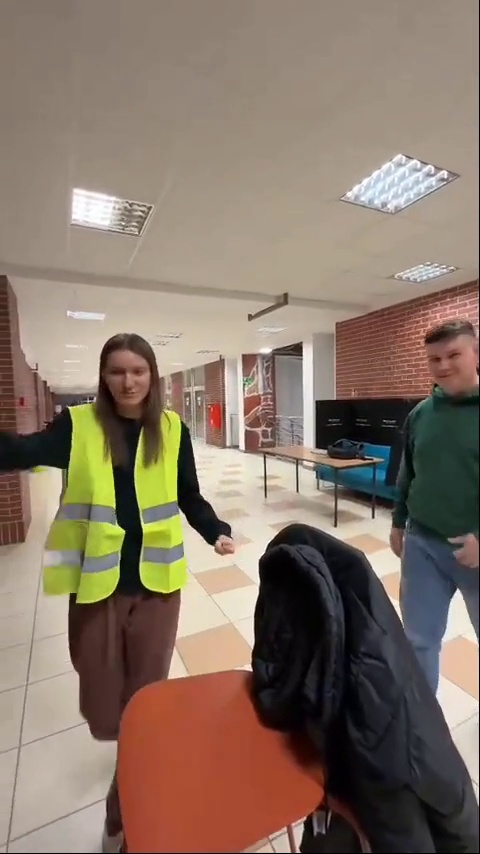no vest: (387, 318, 480, 704)
vest: (54, 324, 220, 714)
